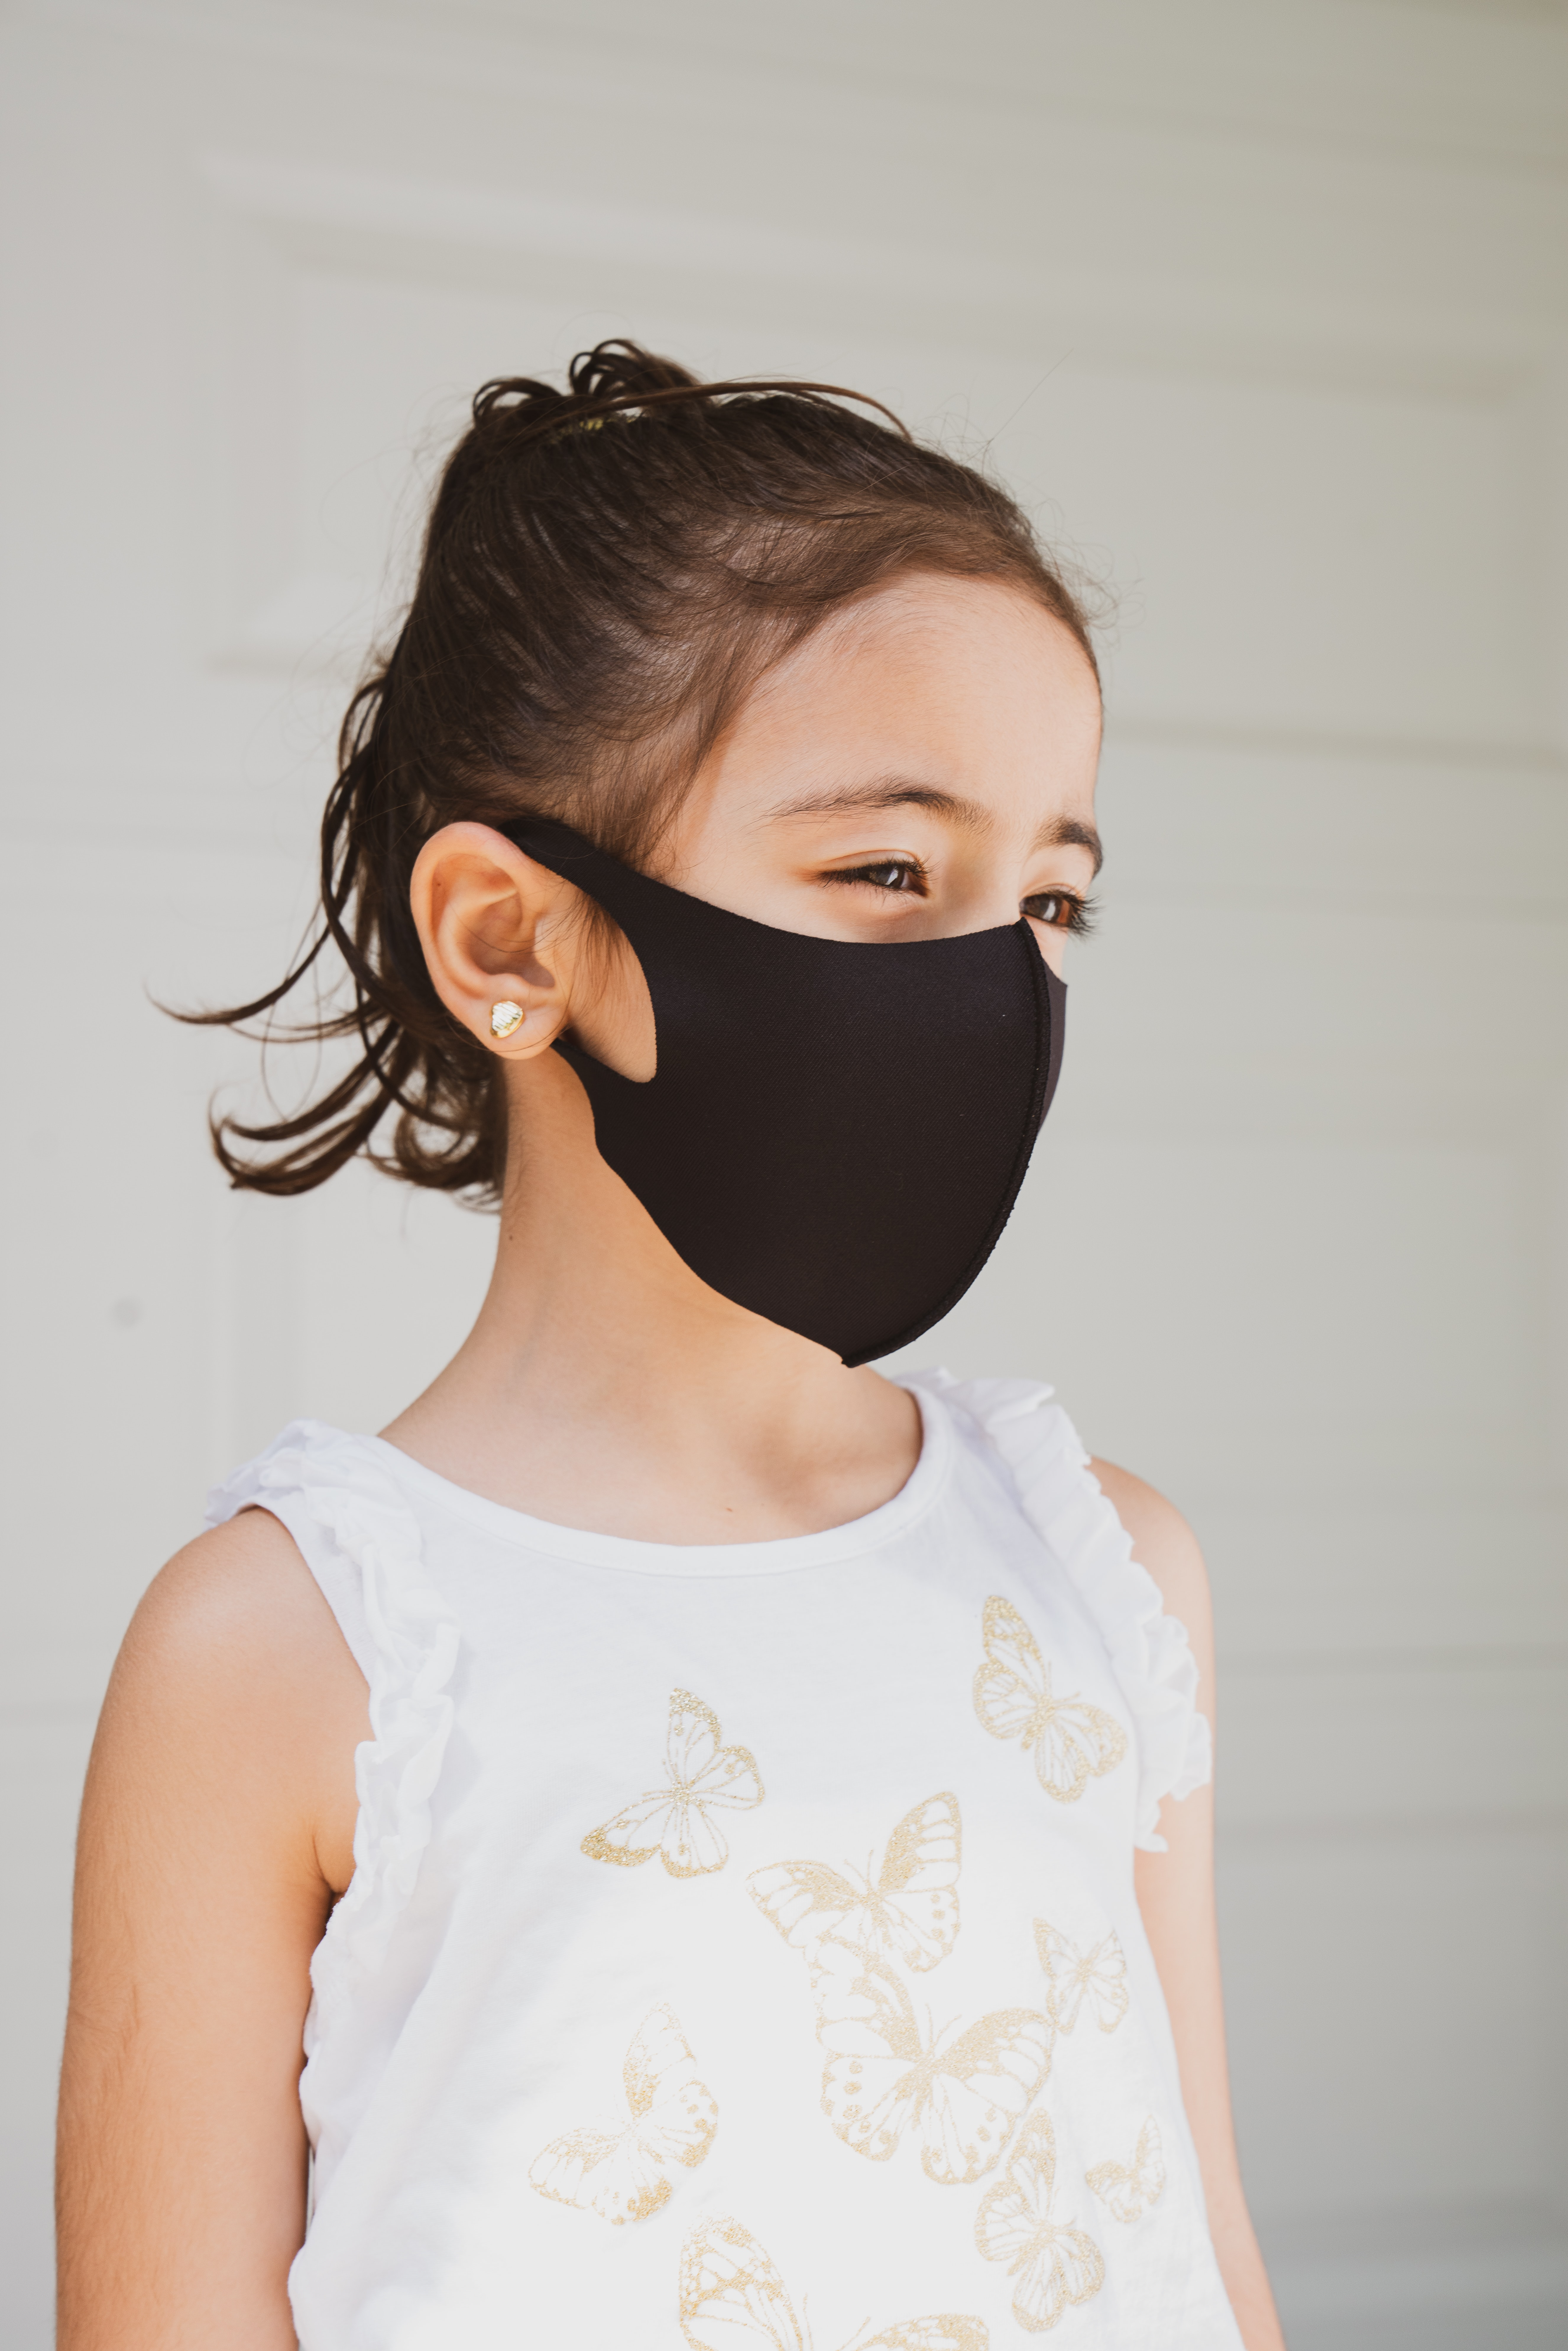mask: (499, 884, 1101, 1427)
person: (51, 347, 1329, 2351)
